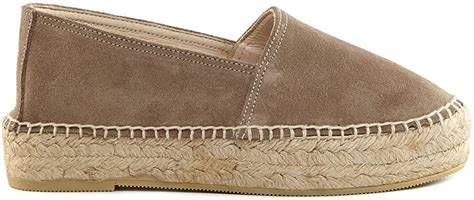gamuza: (12, 1, 454, 126)
